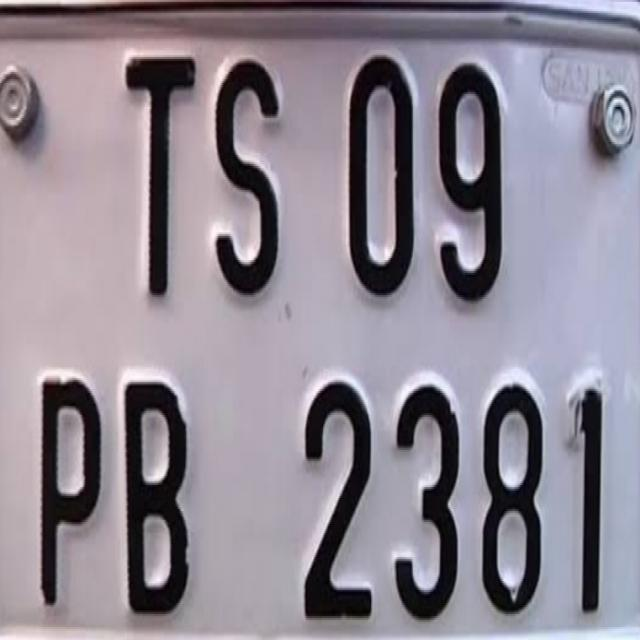0: (340, 37, 418, 300)
1: (556, 335, 609, 624)
3: (387, 348, 462, 631)
8: (476, 358, 546, 632)
9: (428, 42, 506, 316)
B: (112, 356, 198, 622)
P: (36, 360, 104, 620)
S: (204, 41, 286, 302)
T: (118, 26, 196, 312)
